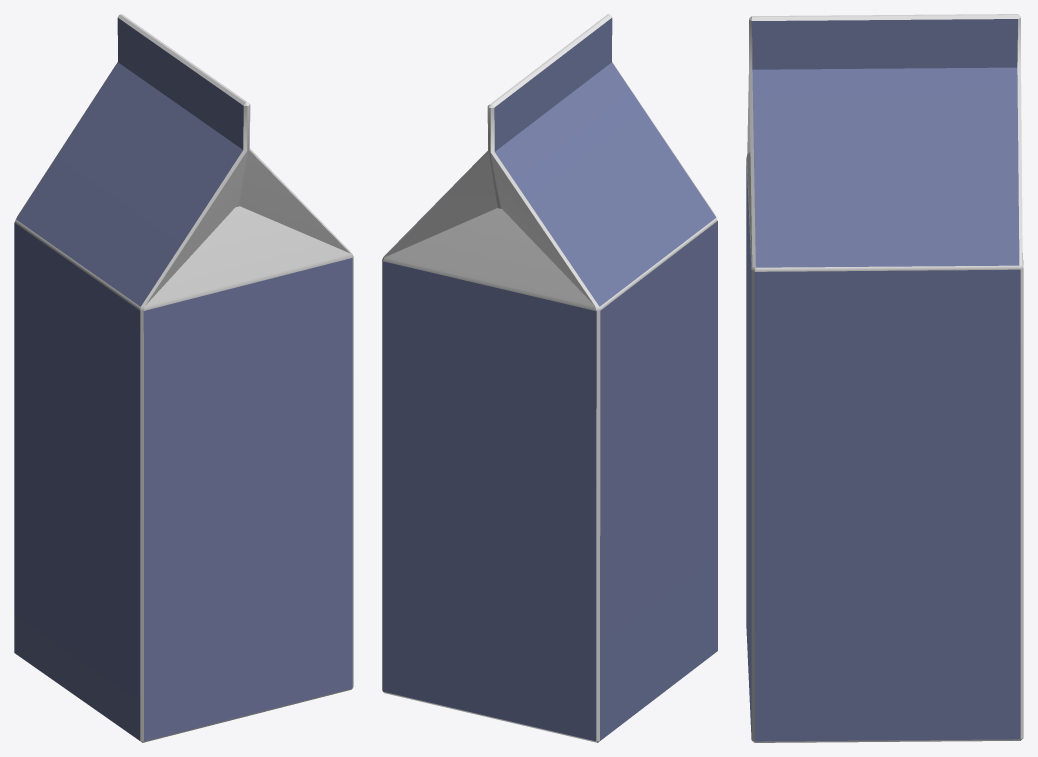
Rendered from SM_MilkCarton.fbx.
3 renders of one model, left to right at view 1: azimuth 30°, elevation 25°; view 2: azimuth 150°, elevation 25°; view 3: azimuth 270°, elevation 25°, orthographic. The views are drawn at different scales.
Visible parts, largest first — view 1: pCube62; view 2: pCube62; view 3: pCube62.
Part boxes in pixels (x1,y1,x2,y2): pCube62: (14,14,353,742); pCube62: (382,14,717,742); pCube62: (746,14,1023,742).
Size of the model in its own units: 15.31 by 40.85 by 15.31.
